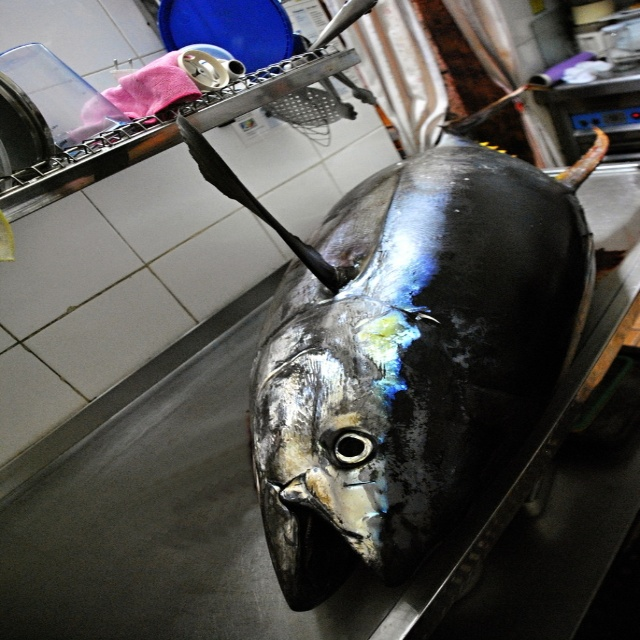Fish: (173, 82, 610, 614)
